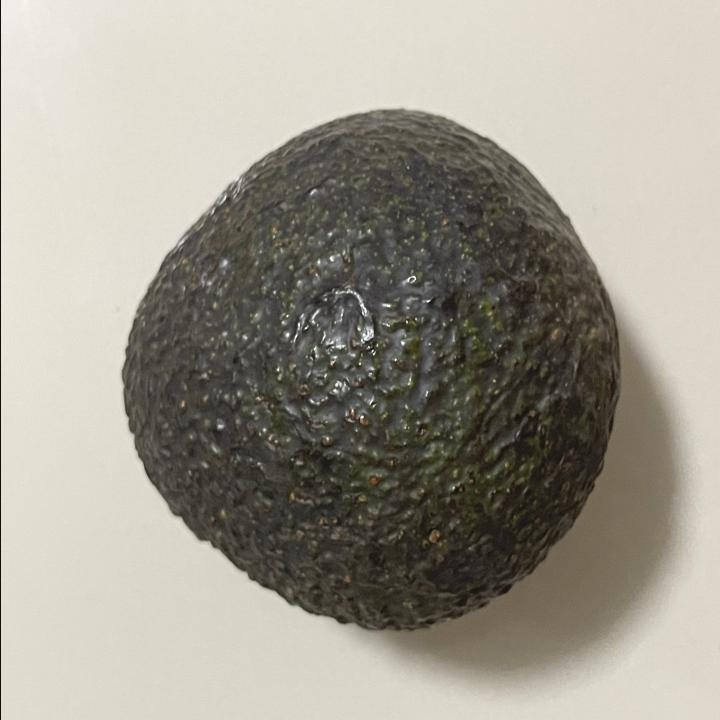Level1: (109, 98, 631, 644)
